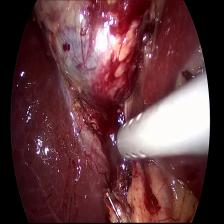Irrigator: (110, 103, 165, 168)
